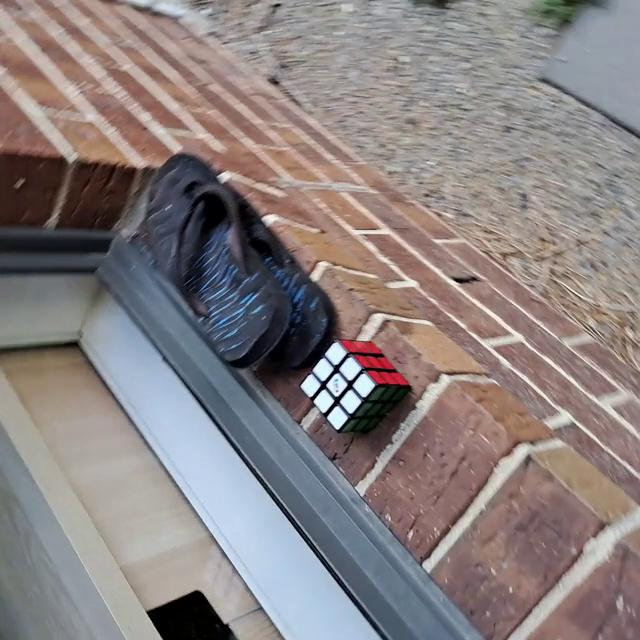rubix_cube: (298, 337, 412, 435)
